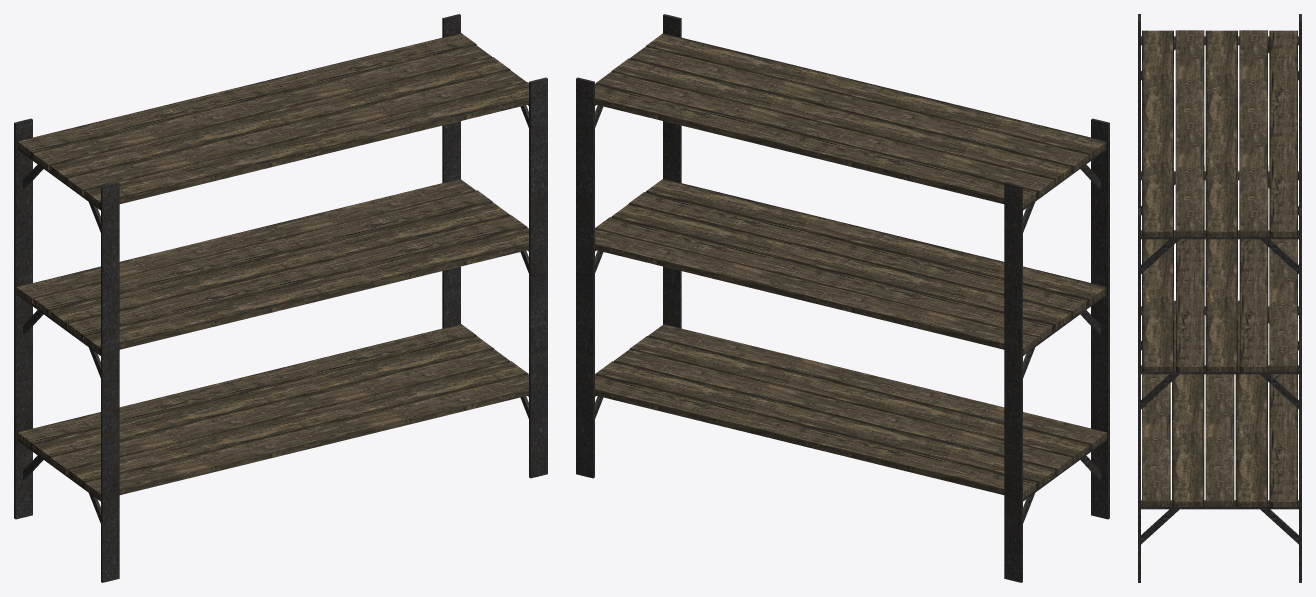
File: shelf_mx_2.dae
3 views of the same model, side by side, from view 1: azimuth 30°, elevation 25°; view 2: azimuth 150°, elevation 25°; view 3: azimuth 270°, elevation 25° (orthographic). The views are drawn at different scales.
Parts seen in each view (by area): view 1: shelf_mx_2; view 2: shelf_mx_2; view 3: shelf_mx_2.
Part boxes in pixels (x1,y1,x2,y2): shelf_mx_2: (14,14,547,582); shelf_mx_2: (576,14,1109,582); shelf_mx_2: (1138,14,1301,582).
Bounding box in the file's own units: 1.6 × 0.55 × 1.36.
Materials: 2 (2 with a texture image).
